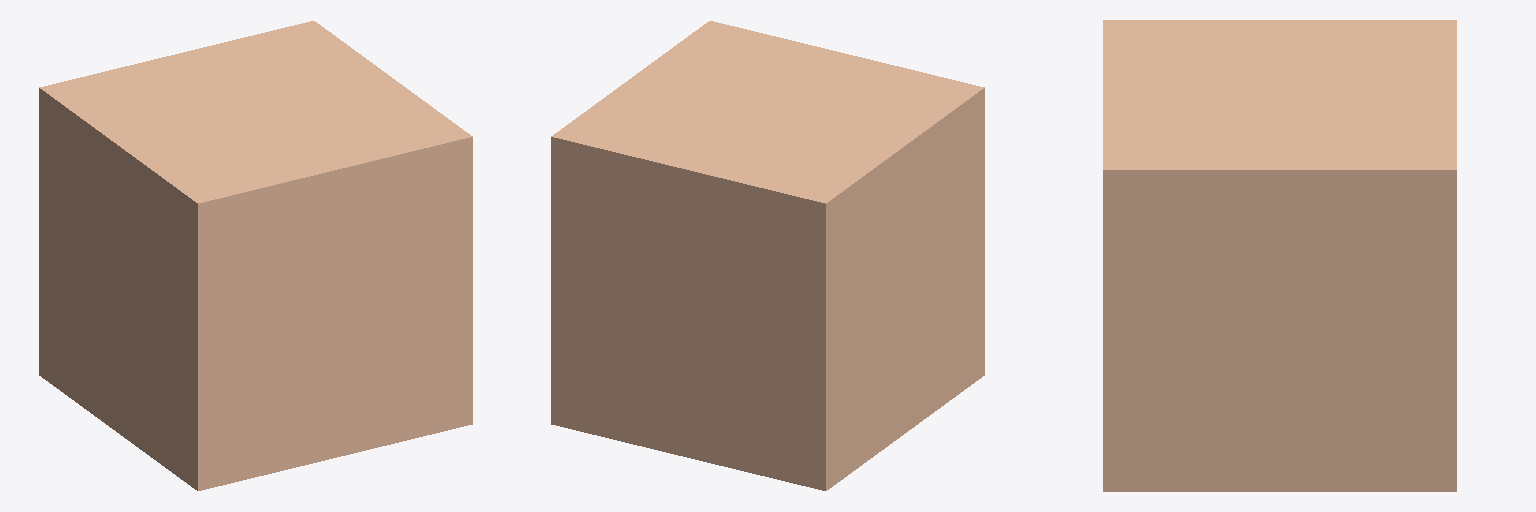
URDF robot description (baby_doll):
<?xml version="1.0"?>
<robot name="baby_doll">

  <!-- Base Link -->
  <link name="base_link">
    <visual>
      <geometry>
        <box size="0.3 0.3 0.3"/>
      </geometry>
      <material name="skin">
        <color rgba="0.96 0.80 0.69 1.0"/> <!-- Approximate skin color -->
      </material>
    </visual>
    <collision>
      <geometry>
        <box size="0.3 0.3 0.3"/>
      </geometry>
    </collision>
    <inertial>
      <mass value="1.0"/> <!-- Approximate mass of a baby doll -->
      <inertia ixx="0.0075" ixy="0.0" ixz="0.0" iyy="0.0075" iyz="0.0" izz="0.0075"/>
    </inertial>
  </link>

  <!-- Dummy joints and links for limbs/head can be added if necessary for the experiment -->

</robot>

--- What the picture shows (computed from the rendered views, not written in the file) ---
3 views of the same robot in one strip: view 1: azimuth 30°, elevation 25°; view 2: azimuth 150°, elevation 25°; view 3: azimuth 270°, elevation 25° (orthographic).
Model baby_doll with 1 links and 0 joints (none), rooted at base_link, posed all joints at 0.
Links seen in each view (by area): view 1: base_link; view 2: base_link; view 3: base_link.
Boxes of the visible links, x1=… form: base_link: x1=39, y1=21, x2=472, y2=490; base_link: x1=551, y1=21, x2=984, y2=490; base_link: x1=1103, y1=20, x2=1456, y2=491.
Size in the robot's own frame: 0.3 by 0.3 by 0.3 metres.
Geometry: primitives only (box / cylinder / sphere), no mesh files.
